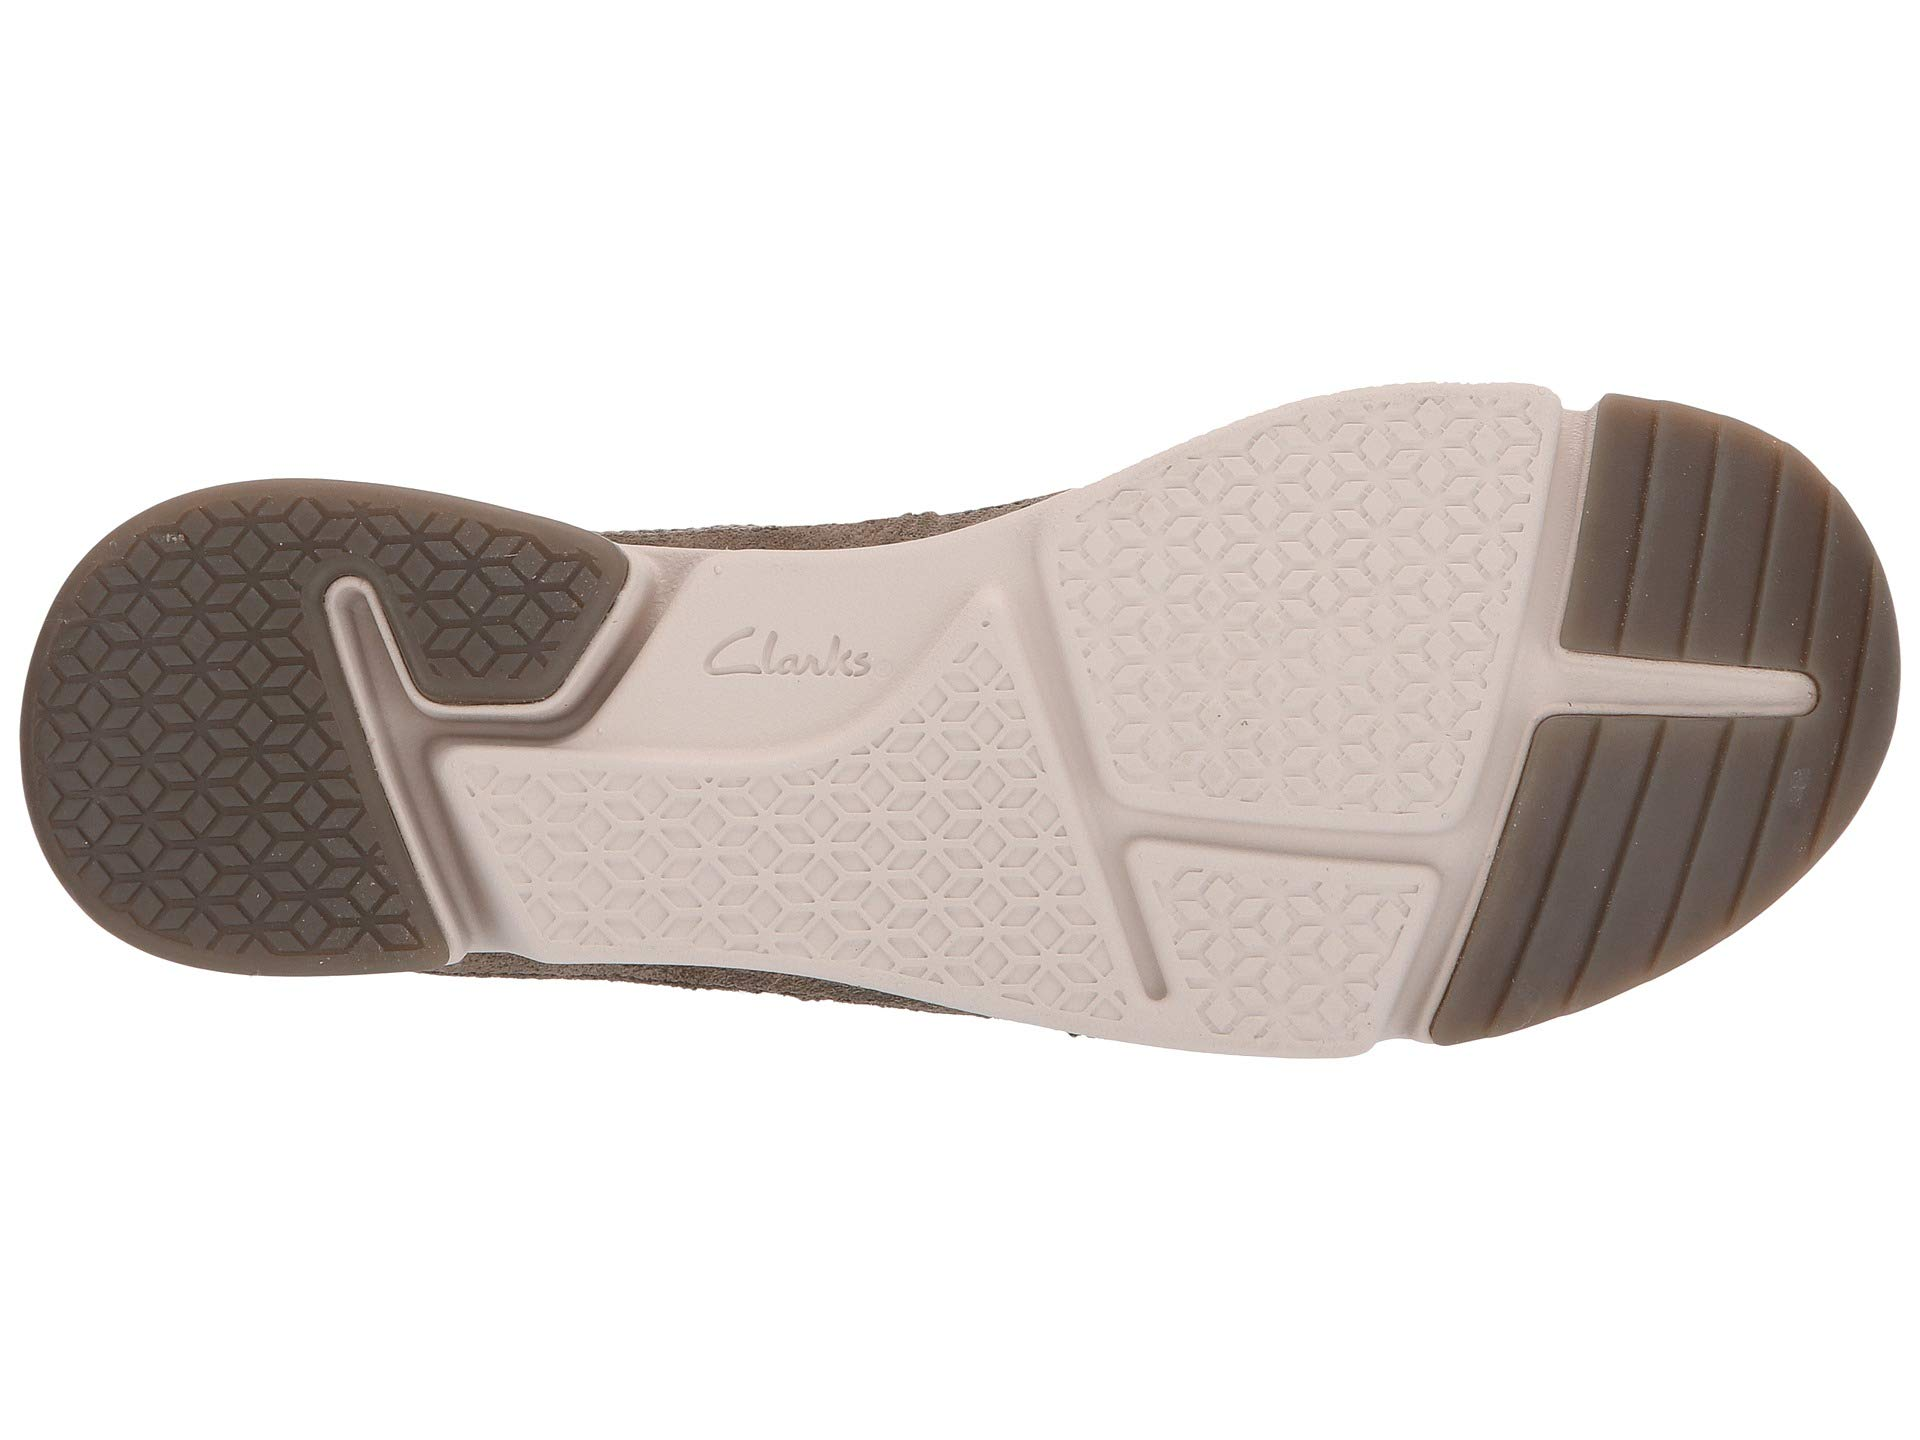polygon: (94, 635, 292, 820), (1215, 526, 1401, 714)
quad: (94, 635, 292, 820), (1215, 526, 1401, 714)
star: (94, 635, 292, 820), (1215, 526, 1401, 714)
